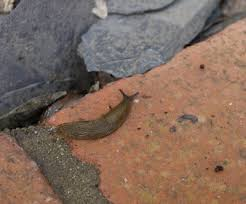slug: (52, 92, 140, 139)
